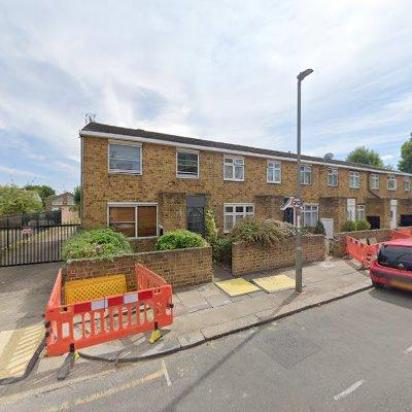stationary-car-onstreet: (368, 238, 412, 302)
